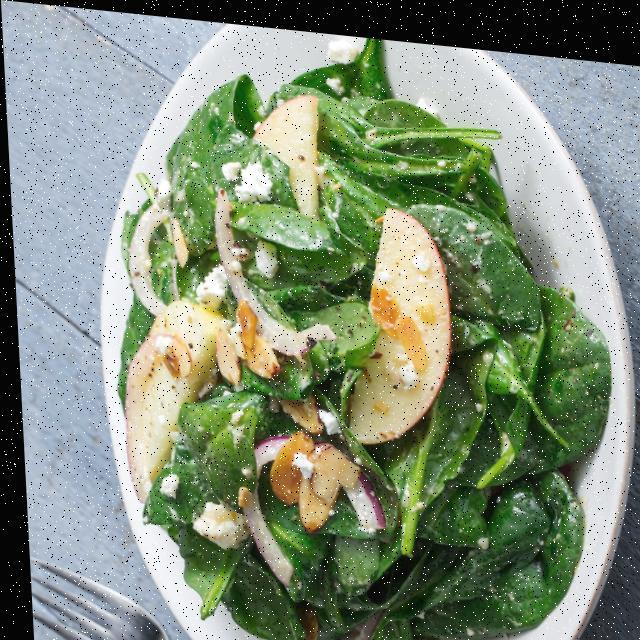Apple: (330, 183, 466, 444), (108, 278, 231, 509)
Spinach: (91, 12, 608, 640)
